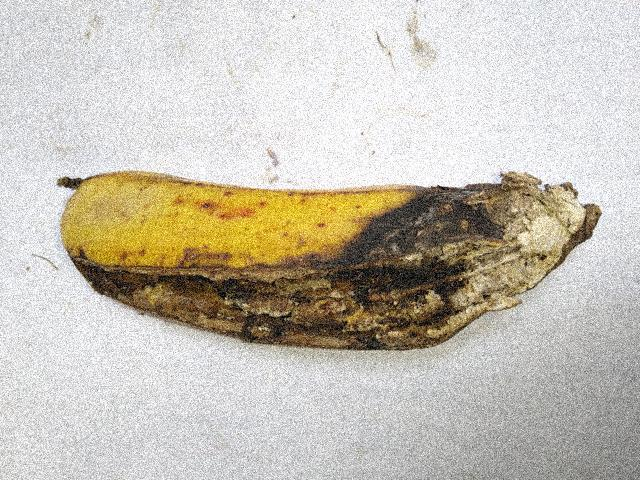rotten: (46, 141, 621, 370)
